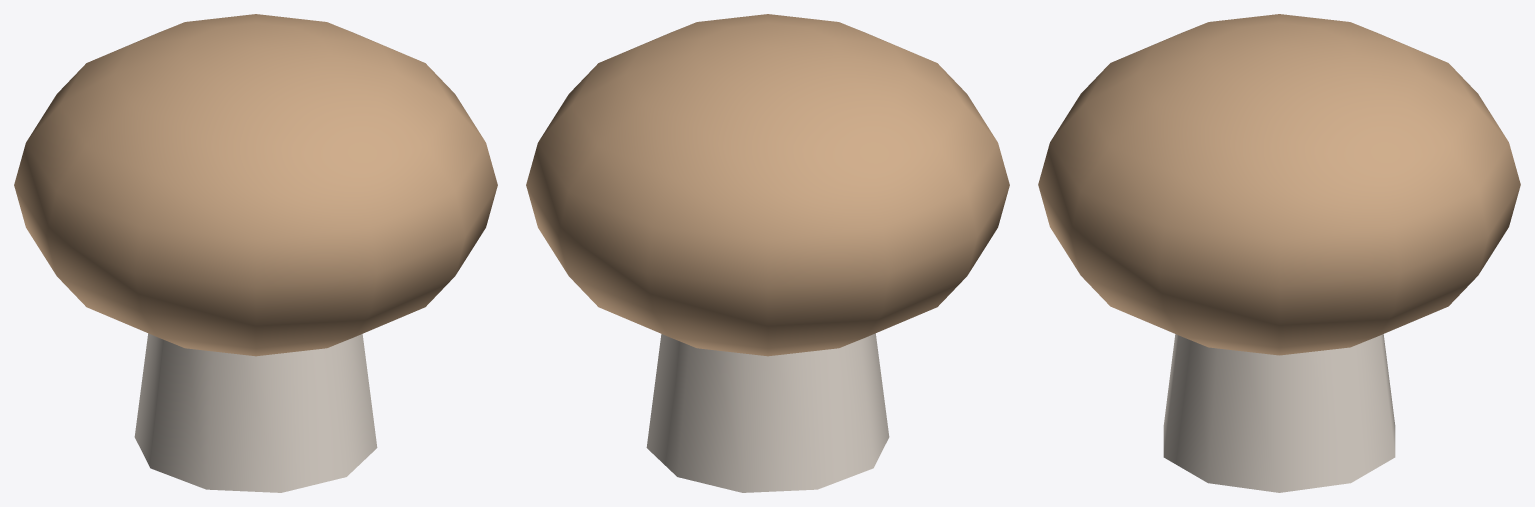
Rendered from food_mantar.glb.
3 views of the same model, side by side, from view 1: azimuth 30°, elevation 25°; view 2: azimuth 150°, elevation 25°; view 3: azimuth 270°, elevation 25° (orthographic).
Visible parts, largest first — view 1: FoodNode_mantar; view 2: FoodNode_mantar; view 3: FoodNode_mantar.
Boxes of the visible parts, x1=… form: FoodNode_mantar: x1=14, y1=14, x2=497, y2=492; FoodNode_mantar: x1=526, y1=14, x2=1009, y2=492; FoodNode_mantar: x1=1038, y1=14, x2=1520, y2=492.
Bounding box in the file's own units: 0.2645 × 0.238 × 0.2645.
